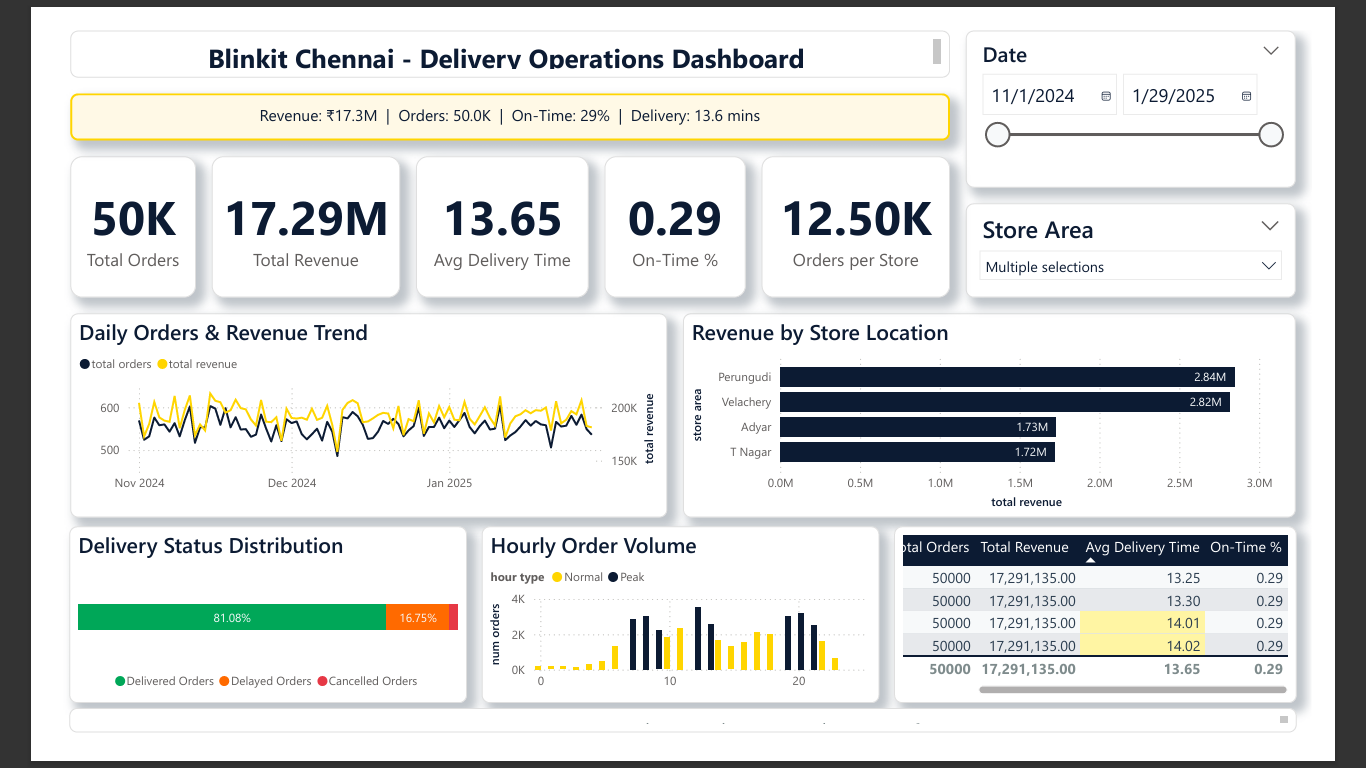

The dashboard page shown, as its layout file describes it:
{"tool":"powerbi","page":{"name":"Operations Overview","canvas":[1280,720],"ordinal":0},"visuals":[{"type":"textbox","box":[16,0,896,48],"z":0},{"type":"card","fields":{"Values":["_Measures.Total Orders"]},"box":[16,128,128,144],"z":1000},{"type":"card","fields":{"Values":["_Measures.Executive Summary"]},"box":[16,64,896,48],"z":2000},{"type":"slicer","fields":{"Values":["Calendar.Date"]},"box":[928,0,336,160],"z":3000},{"type":"lineChart","title":"Daily Orders & Revenue Trend","fields":{"Category":["Calendar.Date"],"Y":["Sum(blinkit_chennai vw_daily_performance.total_orders)"],"Y2":["Sum(blinkit_chennai vw_daily_performance.total_revenue)"]},"box":[16,288,608,208],"z":4000},{"type":"clusteredBarChart","title":"Revenue by Store Location","fields":{"Category":["blinkit_chennai vw_store_performance.store_area"],"Y":["Sum(blinkit_chennai vw_store_performance.total_revenue)"]},"box":[640,288,624,208],"z":5000},{"type":"hundredPercentStackedBarChart","title":"Delivery Status Distribution","fields":{"Y":["_Measures.Delivered Orders","_Measures.Delayed Orders","_Measures.Cancelled Orders"]},"box":[15,505,405,180],"z":6000},{"type":"clusteredColumnChart","title":"Hourly Order Volume","fields":{"Category":["blinkit_chennai vw_hourly_patterns.order_hour"],"Y":["Sum(blinkit_chennai vw_hourly_patterns.num_orders)"],"Series":["blinkit_chennai vw_hourly_patterns.hour_type"]},"box":[435,505,405,180],"z":7000},{"type":"tableEx","fields":{"Values":["blinkit_chennai vw_store_performance.store_area","_Measures.Total Orders","_Measures.Total Revenue","_Measures.Avg Delivery Time","_Measures.On-Time %"]},"box":[855,505,410,180],"z":8000},{"type":"textbox","box":[15,690,1250,25],"z":9000},{"type":"slicer","fields":{"Values":["blinkit_chennai vw_store_performance.store_area"]},"box":[928,176,336,96],"z":10000},{"type":"card","fields":{"Values":["_Measures.Total Revenue"]},"box":[160,128,192,144],"z":11000},{"type":"card","fields":{"Values":["_Measures.Avg Delivery Time"]},"box":[368,128,176,144],"z":12000},{"type":"card","fields":{"Values":["_Measures.On-Time %"]},"box":[560,128,144,144],"z":13000},{"type":"card","fields":{"Values":["_Measures.Orders per Store"]},"box":[720,128,192,144],"z":14000}]}

Visuals, with their boxes in screenshot pixels (x1, y1, x2, y2), scaled from the page's 1280x720 canvas onto the 1366x768 screenshot:
textbox: 17:0:973:51
card - _Measures.Total Orders: 17:137:154:290
card - _Measures.Executive Summary: 17:68:973:119
slicer - Calendar.Date: 990:0:1349:171
"Daily Orders & Revenue Trend" lineChart: 17:307:666:529
"Revenue by Store Location" clusteredBarChart: 683:307:1349:529
"Delivery Status Distribution" hundredPercentStackedBarChart: 16:539:448:731
"Hourly Order Volume" clusteredColumnChart: 464:539:896:731
tableEx - blinkit_chennai vw_store_performance.store_area x _Measures.Total Orders: 912:539:1350:731
textbox: 16:736:1350:763
slicer - blinkit_chennai vw_store_performance.store_area: 990:188:1349:290
card - _Measures.Total Revenue: 171:137:376:290
card - _Measures.Avg Delivery Time: 393:137:581:290
card - _Measures.On-Time %: 598:137:751:290
card - _Measures.Orders per Store: 768:137:973:290
